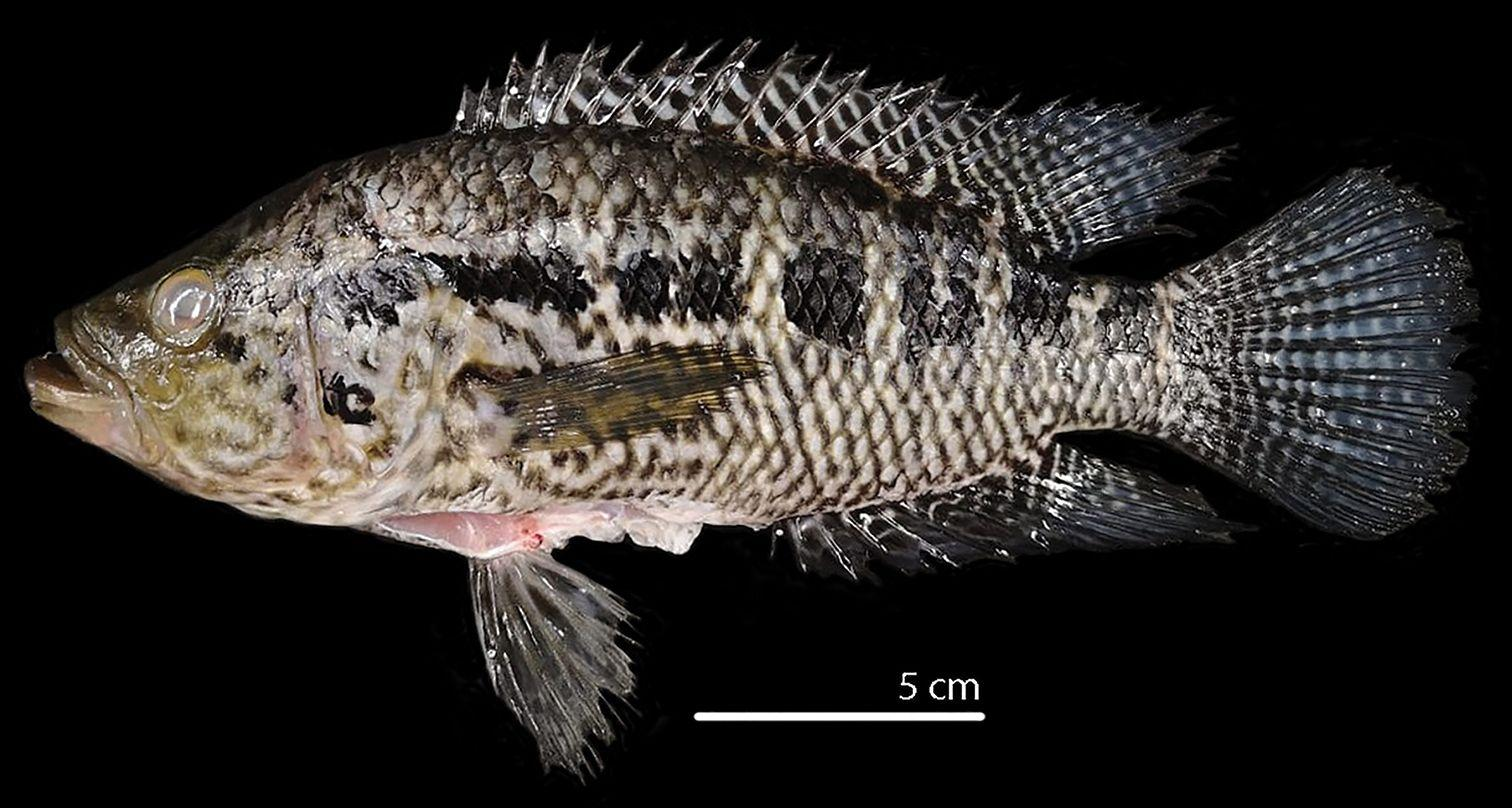Jaguar Gapote: (33, 34, 1474, 776)
